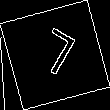L_SW: (29, 26, 81, 84)
